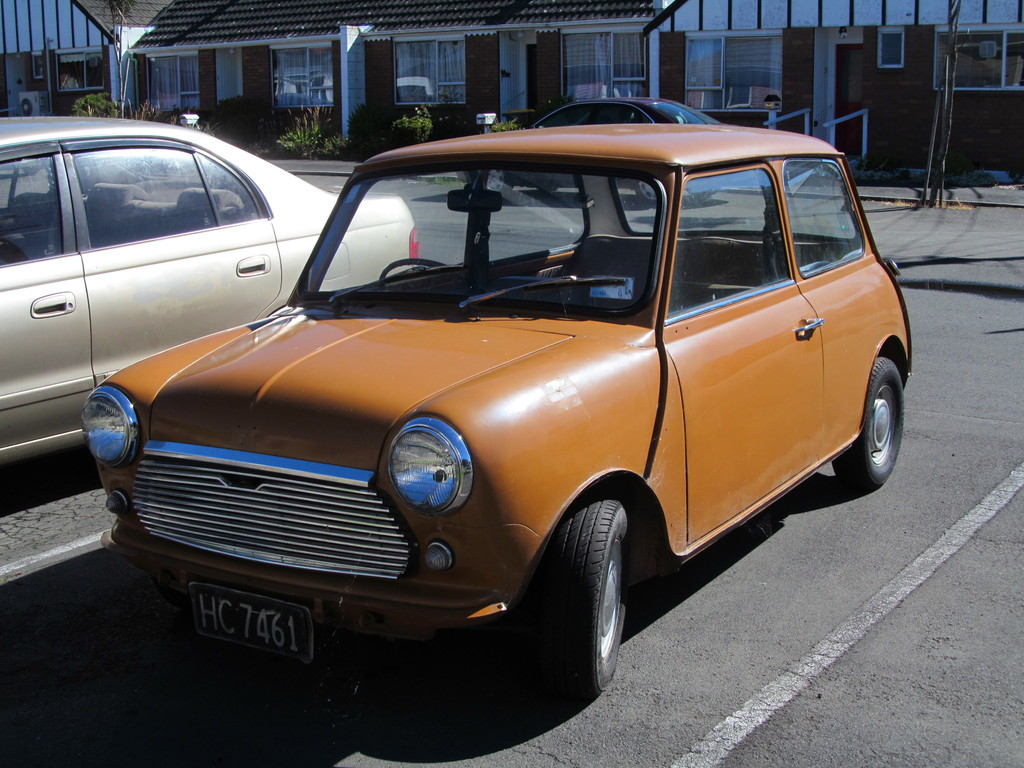Car: (74, 107, 915, 725), (0, 86, 412, 488), (490, 78, 750, 200)
